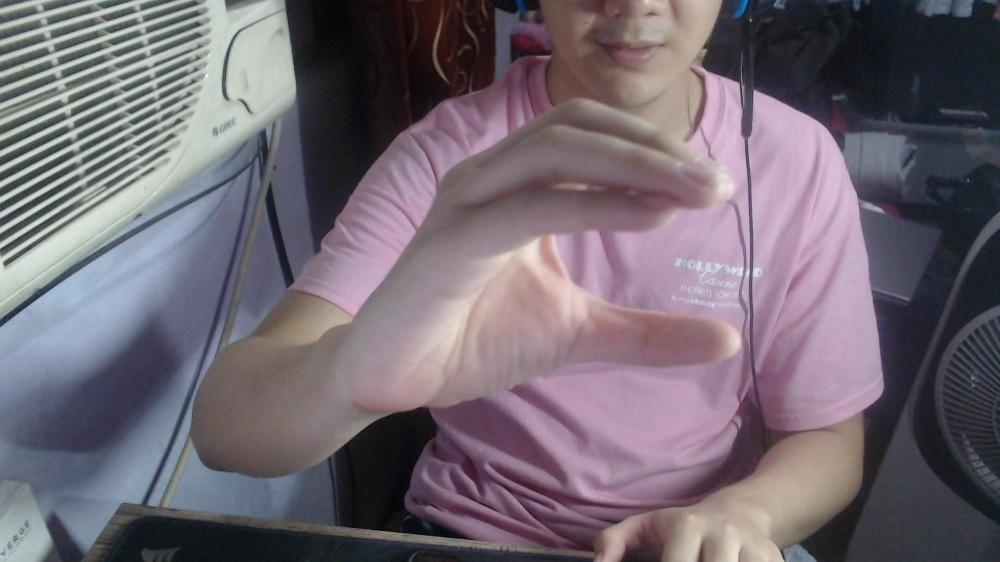c: (349, 92, 746, 417)
